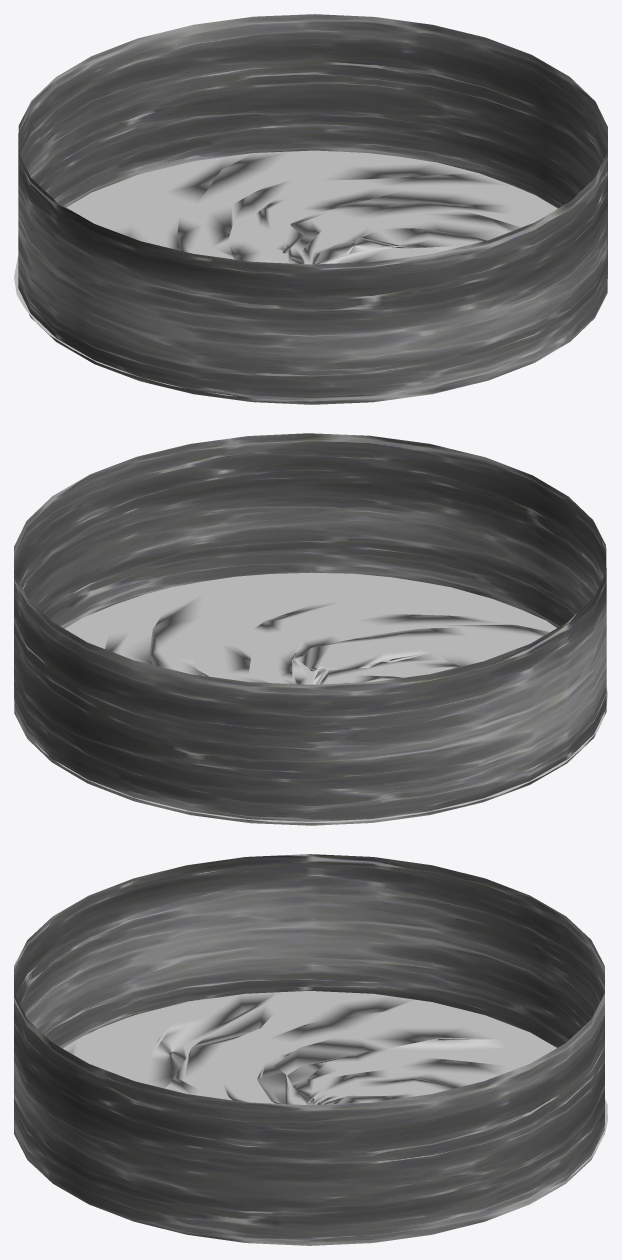
The model's file is dongzuo #949809.fbx.
3 views of the same model, one above another, from view 1: azimuth 30°, elevation 25°; view 2: azimuth 150°, elevation 25°; view 3: azimuth 270°, elevation 25° (orthographic).
Parts seen in each view (by area): view 1: dongzuo; view 2: dongzuo; view 3: dongzuo.
Part boxes in pixels (left/top/right/bottom): dongzuo: left=14, top=14, right=607, bottom=404; dongzuo: left=14, top=433, right=607, bottom=825; dongzuo: left=14, top=854, right=607, bottom=1245.
Bounding box in the file's own units: 4.2 × 1.09 × 4.18.
